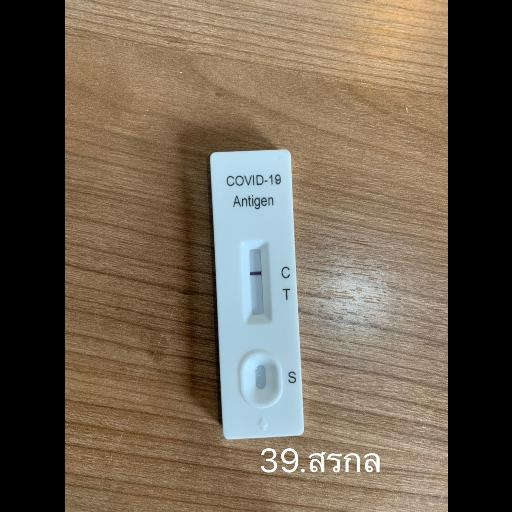Neg: (208, 150, 305, 440)
